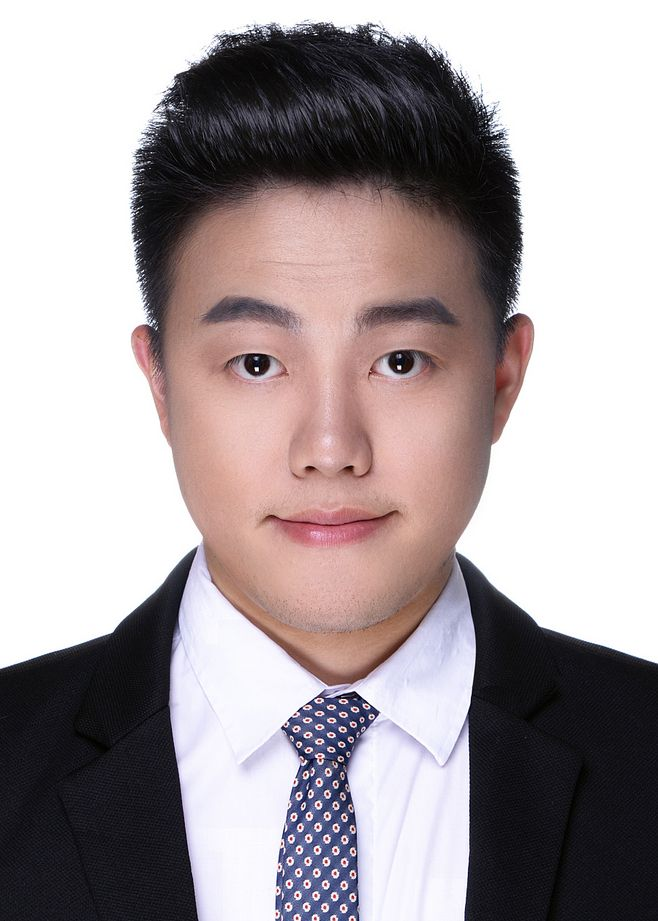unmask: (169, 208, 511, 590)
